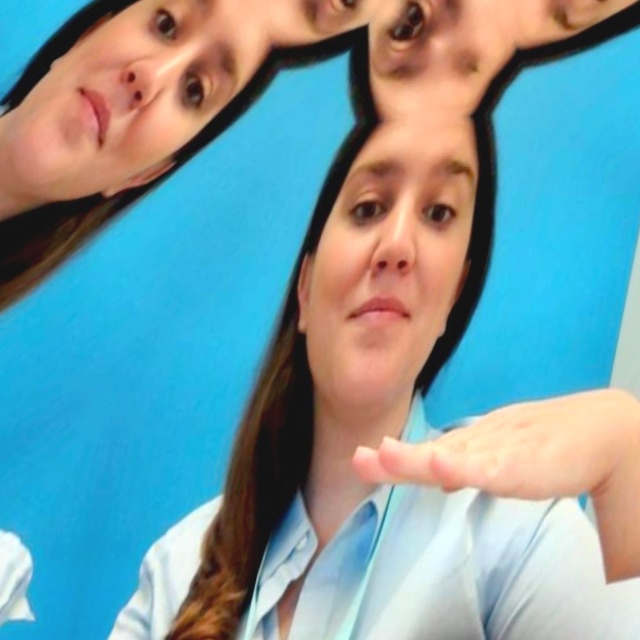Paper: (0, 0, 104, 276)
